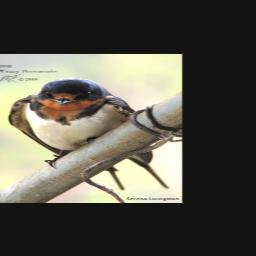Swallow: (8, 78, 170, 190)
